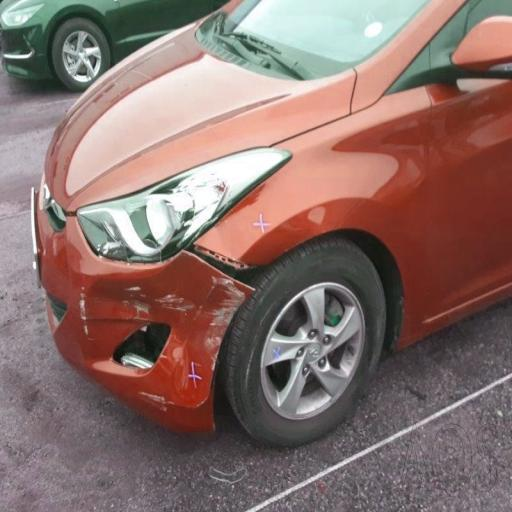broken: (72, 227, 204, 414)
scratch: (202, 278, 240, 380)
